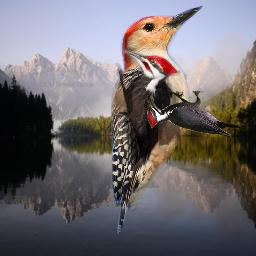Woodpecker: (111, 4, 203, 234), (112, 49, 181, 165), (147, 91, 243, 137)
